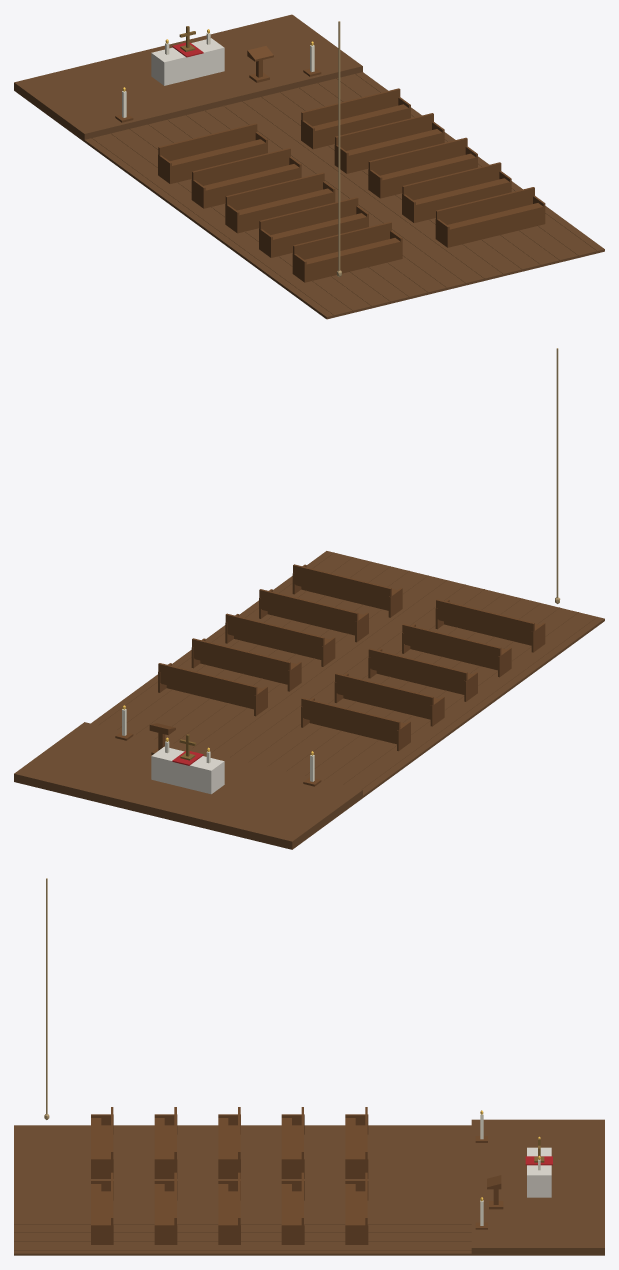
Rendered from church_interior.fbx.
The picture shows the model from 3 angles, top to bottom: view 1: azimuth 30°, elevation 25°; view 2: azimuth 150°, elevation 25°; view 3: azimuth 270°, elevation 25°; orthographic projection. The views are drawn at different scales.
Visible parts, largest first — view 1: Church_Floor, Church_Pew, Church_Altar, Church_Rope; view 2: Church_Floor, Church_Pew, Church_Altar, Church_Rope; view 3: Church_Floor, Church_Pew, Church_Altar.
Boxes of the visible parts, left/top/right/bottom form: Church_Floor: left=14, top=14, right=604, bottom=319; Church_Pew: left=115, top=46, right=545, bottom=282; Church_Altar: left=151, top=38, right=224, bottom=85; Church_Rope: left=336, top=21, right=341, bottom=277; Church_Floor: left=14, top=551, right=604, bottom=849; Church_Pew: left=115, top=564, right=545, bottom=786; Church_Altar: left=151, top=746, right=224, bottom=794; Church_Rope: left=555, top=348, right=560, bottom=603; Church_Floor: left=14, top=1119, right=604, bottom=1255; Church_Pew: left=91, top=1107, right=503, bottom=1244; Church_Altar: left=527, top=1147, right=551, bottom=1197.
Bounding box in the file's own units: 14.8 × 14.12 × 28.8.
